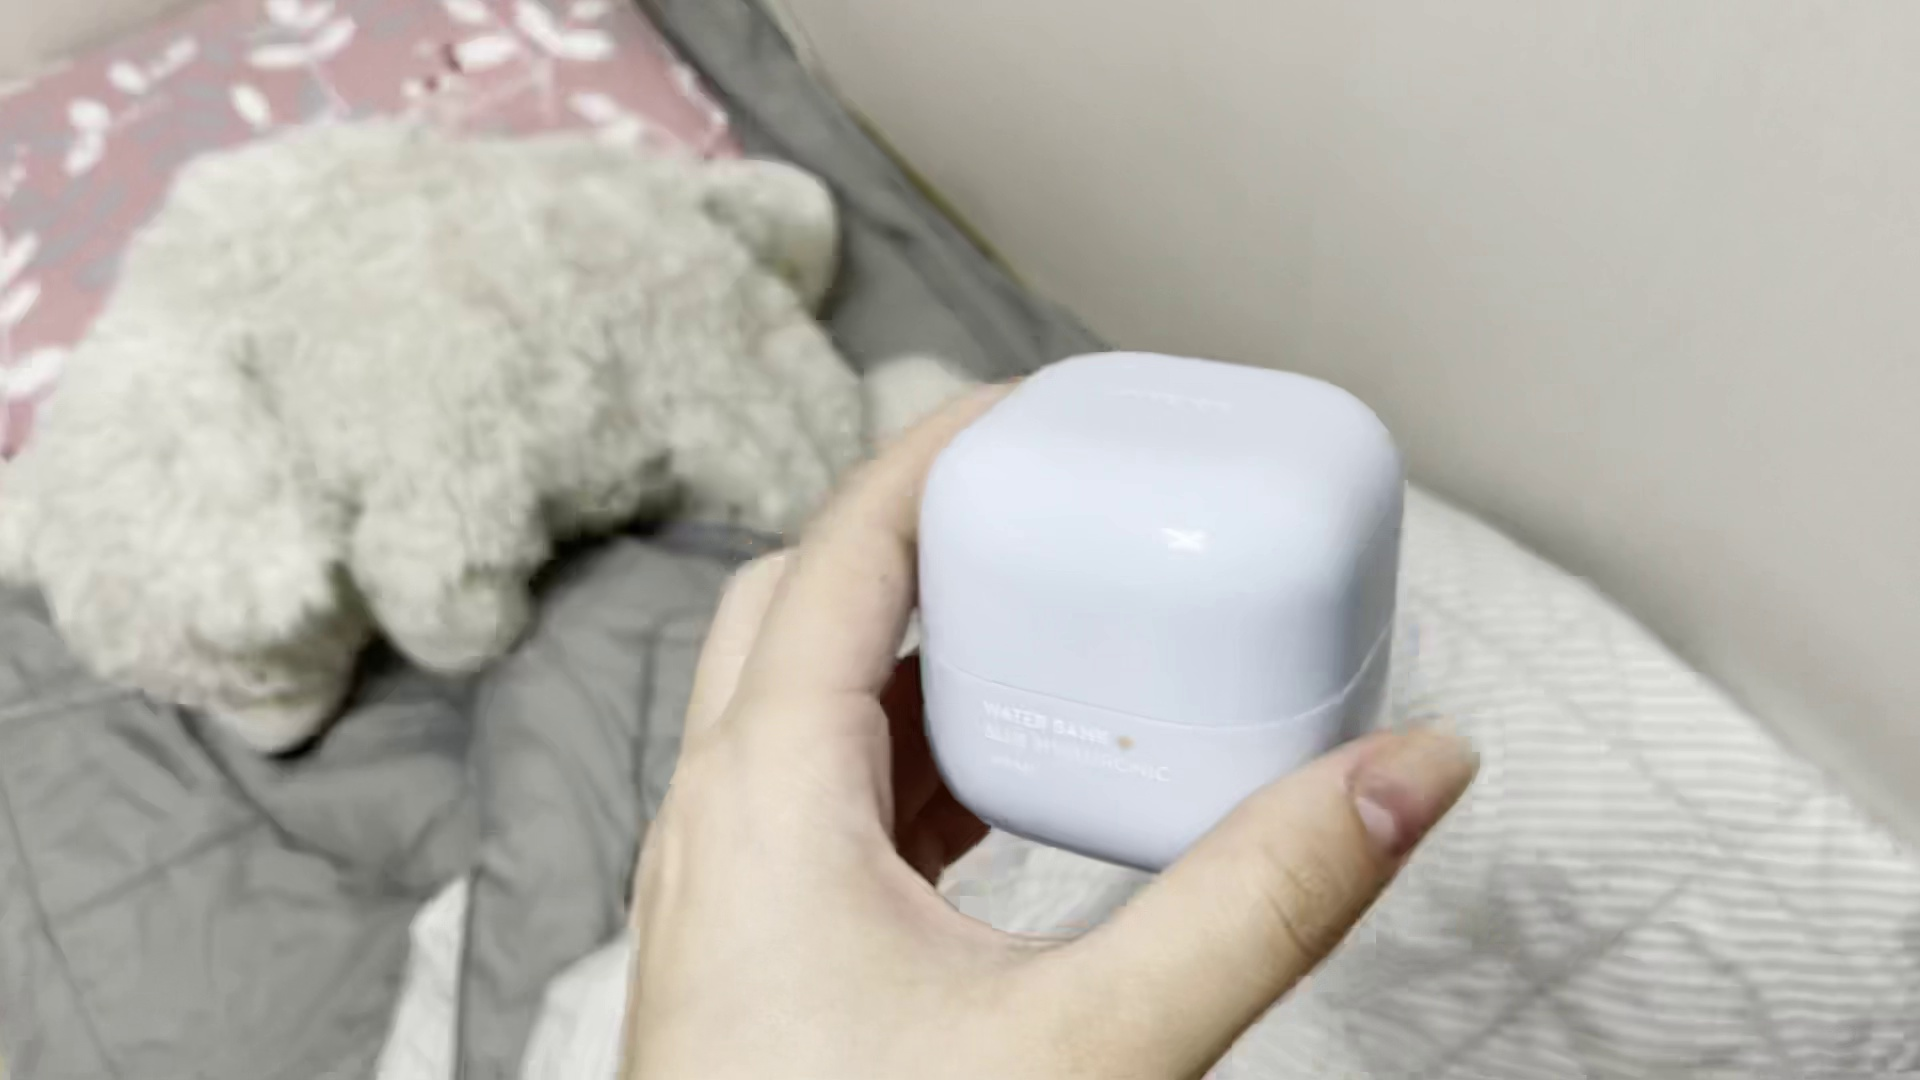cream: (920, 349, 1404, 876)
